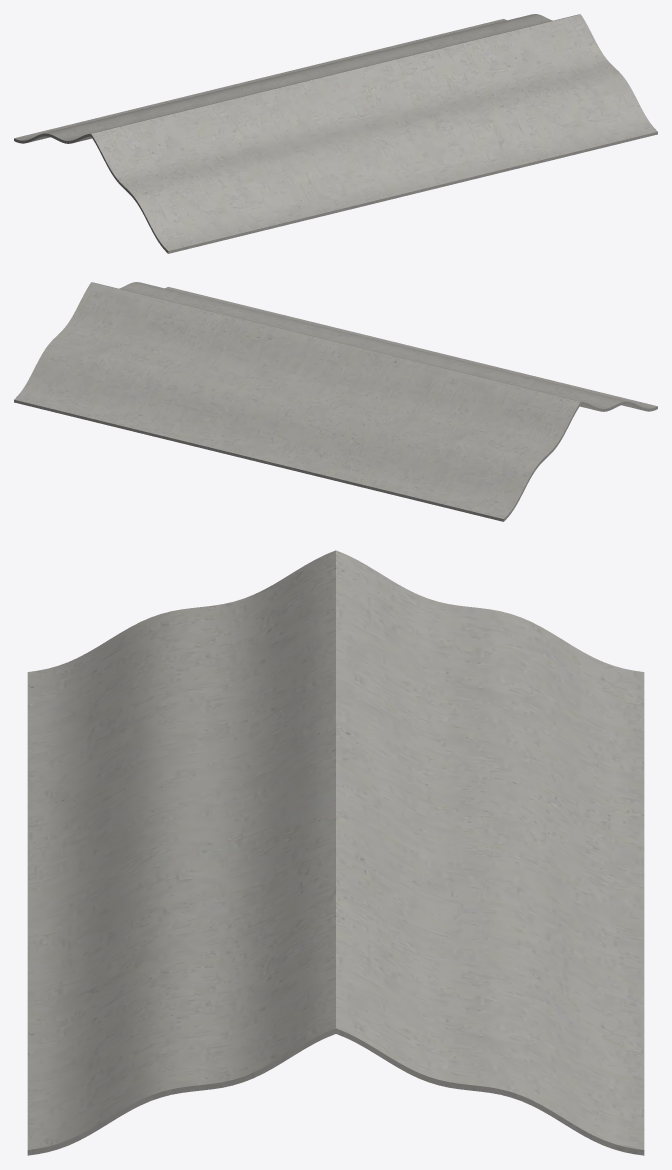
Rendered from COB-CUM-002.glb.
3 renders of one model, top to bottom at view 1: azimuth 30°, elevation 25°; view 2: azimuth 150°, elevation 25°; view 3: azimuth 270°, elevation 25°, orthographic. The views are drawn at different scales.
Visible parts, largest first — view 1: COB-CUM-002_peca; view 2: COB-CUM-002_peca; view 3: COB-CUM-002_peca.
Boxes of the visible parts, <box> form: COB-CUM-002_peca: <box>14,14,657,253</box>; COB-CUM-002_peca: <box>14,282,657,521</box>; COB-CUM-002_peca: <box>27,550,644,1155</box>.
Bounding box in the file's own units: 1.1 × 0.1367 × 0.6.
1 material, 1 textured.
